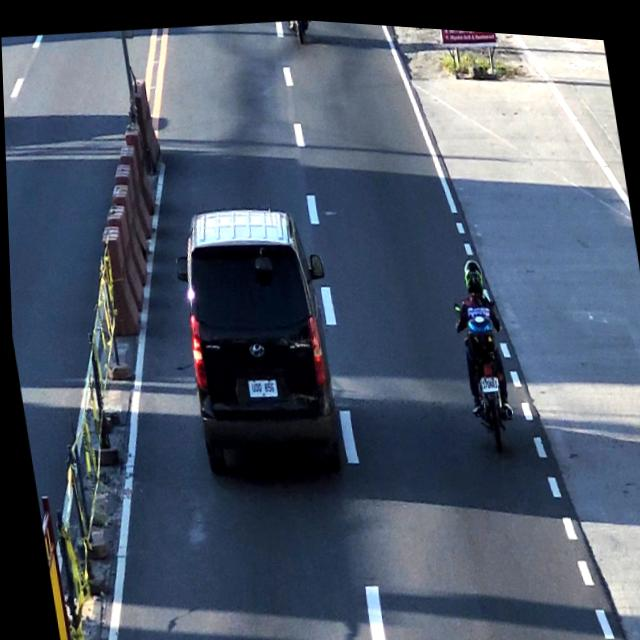Car: (167, 195, 342, 478)
License-Plate: (240, 369, 279, 403), (477, 369, 499, 389)
Motorcycle: (450, 251, 518, 449)
